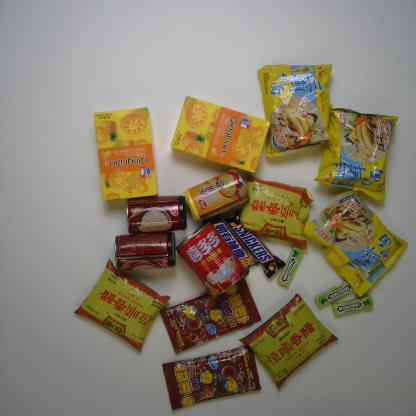Candy: (160, 277, 262, 354), (162, 345, 261, 410)
Canned Food: (174, 220, 248, 299), (183, 169, 250, 222), (126, 194, 188, 235), (114, 231, 176, 271)
Chocolate: (224, 209, 286, 279), (203, 214, 259, 276)
Dessert: (170, 96, 270, 174), (93, 107, 159, 202)
Gum: (313, 280, 354, 309), (277, 245, 304, 287), (330, 295, 374, 315)
Instant Noodles: (302, 190, 408, 297), (313, 104, 399, 202), (257, 63, 334, 159)
Seasoner: (239, 293, 339, 390), (73, 258, 171, 352), (239, 176, 314, 250)
